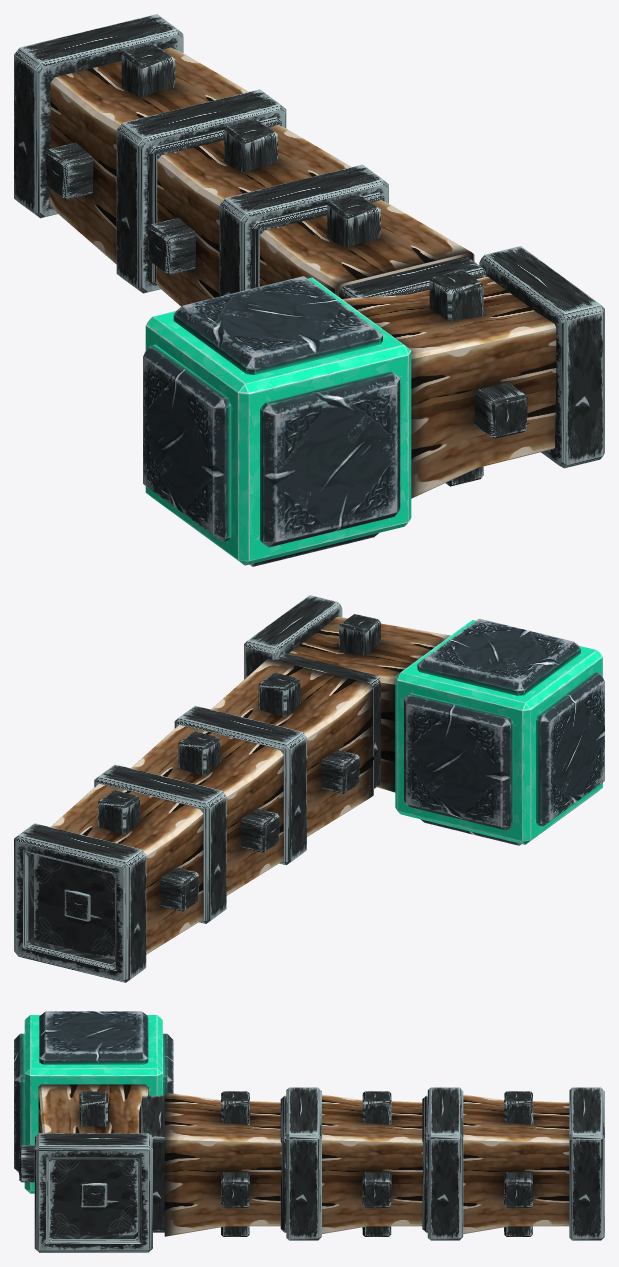
Rendered from step_005.glb.
3 renders of one model, top to bottom at view 1: azimuth 30°, elevation 25°; view 2: azimuth 150°, elevation 25°; view 3: azimuth 270°, elevation 25°, orthographic. The views are drawn at different scales.
Parts seen in each view (by area): view 1: SingleWoodenBlock_c6cb6ea4-029e-4f92-8919-0b61ab0232d0, StartingBlock_a74d7ff6-1644-4f99-b6d4-31dde0cee334; view 2: SingleWoodenBlock_c6cb6ea4-029e-4f92-8919-0b61ab0232d0, StartingBlock_a74d7ff6-1644-4f99-b6d4-31dde0cee334; view 3: SingleWoodenBlock_c6cb6ea4-029e-4f92-8919-0b61ab0232d0, StartingBlock_a74d7ff6-1644-4f99-b6d4-31dde0cee334.
Part boxes in pixels (box(x1,y1,x2,y2)): SingleWoodenBlock_c6cb6ea4-029e-4f92-8919-0b61ab0232d0: box(14, 14, 604, 498); StartingBlock_a74d7ff6-1644-4f99-b6d4-31dde0cee334: box(143, 276, 411, 566); SingleWoodenBlock_c6cb6ea4-029e-4f92-8919-0b61ab0232d0: box(14, 595, 450, 982); StartingBlock_a74d7ff6-1644-4f99-b6d4-31dde0cee334: box(395, 618, 604, 845); SingleWoodenBlock_c6cb6ea4-029e-4f92-8919-0b61ab0232d0: box(19, 1084, 604, 1252); StartingBlock_a74d7ff6-1644-4f99-b6d4-31dde0cee334: box(14, 1011, 173, 1193).
Bounding box in the file's own units: 2.18 × 1.13 × 4.17.
Materials: 2 (2 with a texture image).
